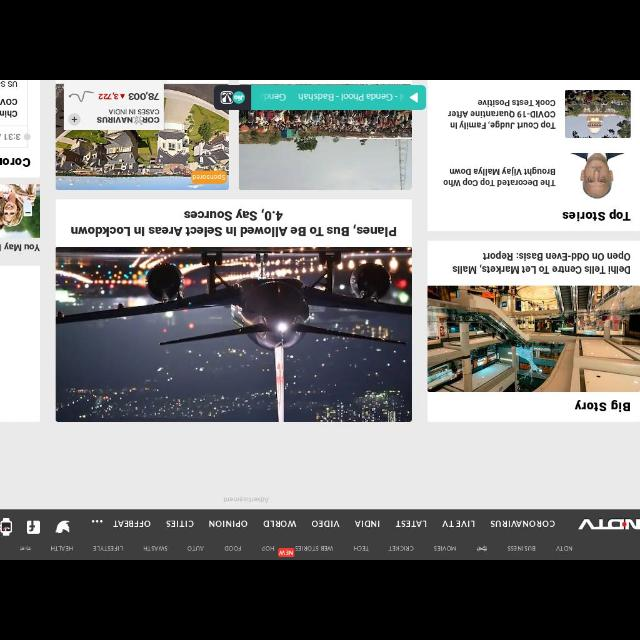icon: (1, 518, 12, 536), (56, 520, 70, 534), (26, 520, 40, 534), (410, 92, 418, 104)
iframe: (1, 426, 639, 508)
image: (56, 246, 412, 422), (428, 286, 640, 392), (55, 84, 228, 190), (240, 110, 412, 190), (565, 90, 631, 138), (567, 152, 625, 200), (1, 184, 40, 238), (576, 518, 640, 530), (220, 91, 246, 105), (278, 548, 294, 556)
panel: (214, 86, 426, 110)
text: (451, 250, 631, 276), (71, 224, 397, 238), (448, 99, 556, 129), (444, 167, 556, 187), (184, 208, 282, 222), (260, 92, 398, 101), (562, 209, 630, 221), (574, 400, 632, 412), (1, 242, 40, 252), (490, 520, 554, 526), (208, 520, 248, 528), (112, 520, 150, 528), (1, 158, 30, 168), (442, 520, 474, 528), (395, 520, 427, 528), (264, 520, 296, 528), (294, 545, 334, 551), (312, 520, 341, 528), (166, 520, 194, 528), (354, 520, 380, 528), (92, 545, 124, 551), (506, 545, 536, 551), (144, 546, 168, 552), (51, 546, 74, 552), (434, 546, 456, 552), (1, 110, 17, 118), (1, 98, 17, 105), (186, 545, 204, 551), (224, 545, 242, 551), (352, 545, 370, 551), (388, 546, 414, 550), (4, 134, 20, 140), (1, 81, 17, 87), (556, 545, 572, 551), (476, 546, 488, 552), (261, 546, 275, 550), (20, 546, 32, 550), (91, 520, 103, 522)
toolbar: (1, 510, 640, 560)
